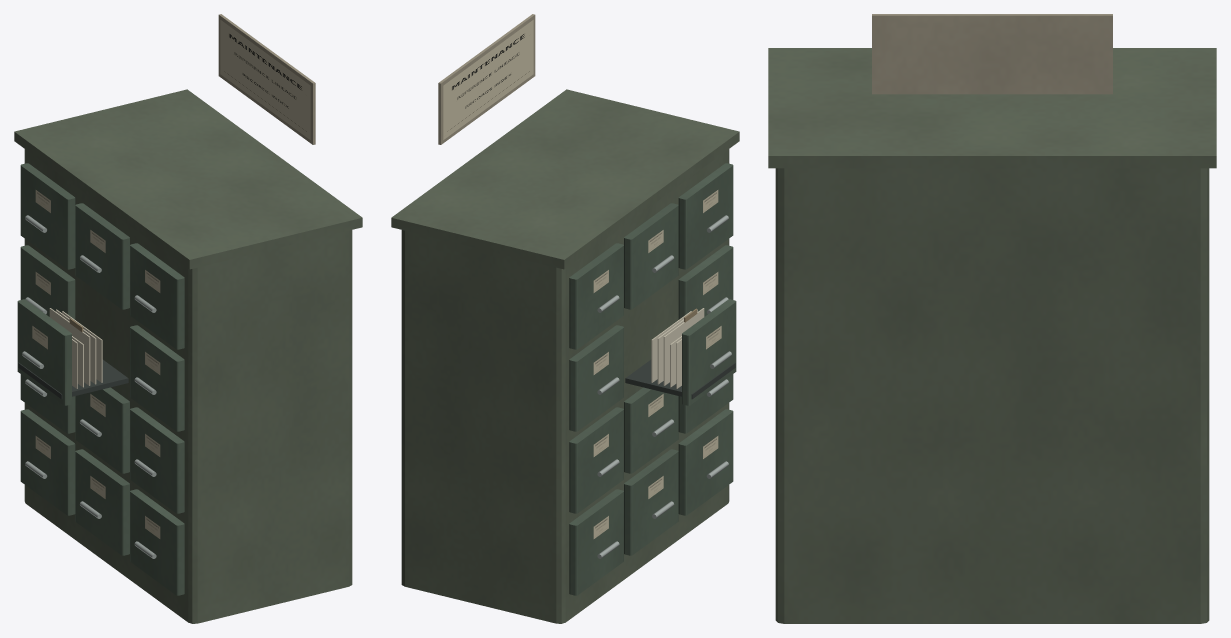
File: SM_ArchiveProps_CardIndex_LOD1.fbx
3 renders of one model, left to right at view 1: azimuth 30°, elevation 25°; view 2: azimuth 150°, elevation 25°; view 3: azimuth 270°, elevation 25°, orthographic. The views are drawn at different scales.
Visible parts, largest first — view 1: SM_ArchiveProps_CardIndex_LOD1; view 2: SM_ArchiveProps_CardIndex_LOD1; view 3: SM_ArchiveProps_CardIndex_LOD1.
Part boxes in pixels (<box>): SM_ArchiveProps_CardIndex_LOD1: <box>14,14,362,623</box>; SM_ArchiveProps_CardIndex_LOD1: <box>391,14,739,623</box>; SM_ArchiveProps_CardIndex_LOD1: <box>768,14,1216,623</box>.
Bounding box in the file's own units: 0.748 × 0.93 × 1.39.
